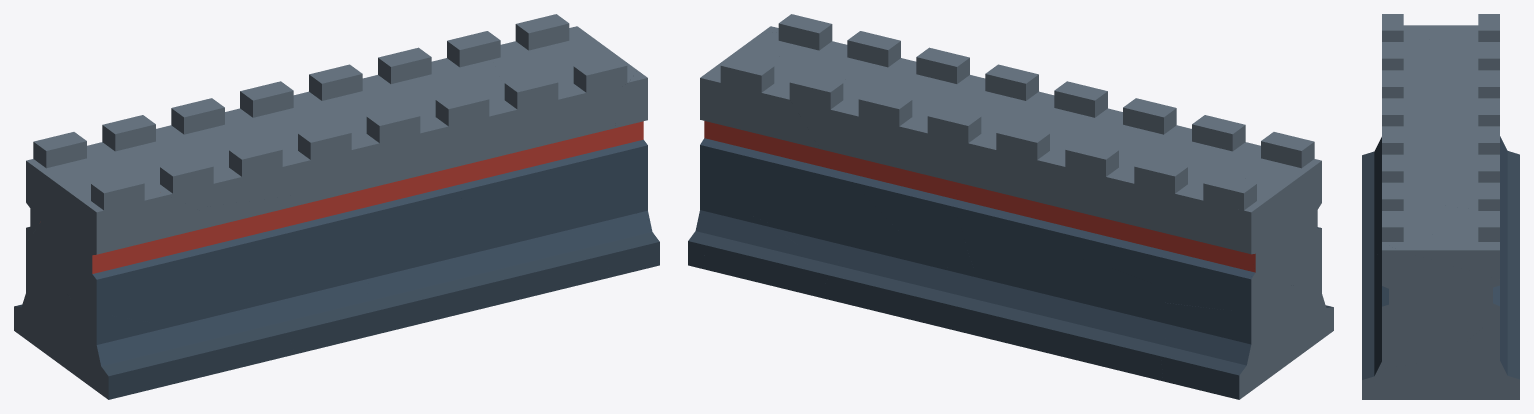
Rendered from wall.fbx.
3 renders of one model, left to right at view 1: azimuth 30°, elevation 25°; view 2: azimuth 150°, elevation 25°; view 3: azimuth 270°, elevation 25°, orthographic. The views are drawn at different scales.
Parts seen in each view (by area): view 1: Cube.027_cell.043_cell, Cube.027_cell.024, Cube.027_cell.050, Cube.027_cell.043_cell.001, wall, Cube.027_cell.039, Cube.027_cell.037, Cube.027_cell.033_cell.002, Cube.027_cell.041, Cube.027_cell.047, Cube.027_cell.051, Cube.027_cell.042_cell (+13 smaller); view 2: Cube.027_cell.024, Cube.027_cell.043_cell, Cube.027_cell.043_cell.001, Cube.027_cell.041, Cube.027_cell.033_cell.002, Cube.027_cell.042_cell, Cube.027_cell.034, Cube.027_cell.033_cell.001, wall, Cube.027_cell.050, Cube.027_cell.044, Cube.027_cell.048 (+10 smaller); view 3: Cube.027_cell.032, Cube.027_cell.043_cell, Cube.027_cell.029, Cube.027_cell.027, Cube.027_cell.038, Cube.027_cell.024, Cube.027_cell.050, Cube.027_cell.041, Cube.027_cell.046, Cube.027_cell.051, Cube.027_cell.049, Cube.027_cell.043_cell.001 (+12 smaller).
Boxes of the visible parts, left/top/right/bottom form: Cube.027_cell.043_cell: left=240, top=64, right=420, bottom=280; Cube.027_cell.024: left=79, top=98, right=332, bottom=277; Cube.027_cell.050: left=457, top=41, right=627, bottom=209; Cube.027_cell.043_cell.001: left=357, top=75, right=489, bottom=281; wall: left=366, top=232, right=548, bottom=336; Cube.027_cell.039: left=91, top=174, right=252, bottom=309; Cube.027_cell.037: left=54, top=289, right=181, bottom=399; Cube.027_cell.033_cell.002: left=239, top=248, right=372, bottom=353; Cube.027_cell.041: left=378, top=31, right=514, bottom=197; Cube.027_cell.047: left=504, top=158, right=629, bottom=271; Cube.027_cell.051: left=139, top=138, right=304, bottom=207; Cube.027_cell.042_cell: left=445, top=141, right=575, bottom=241; Cube.027_cell.024: left=1015, top=140, right=1242, bottom=282; Cube.027_cell.043_cell: left=927, top=64, right=1072, bottom=270; Cube.027_cell.043_cell.001: left=884, top=47, right=993, bottom=279; Cube.027_cell.041: left=789, top=58, right=932, bottom=233; Cube.027_cell.033_cell.002: left=955, top=232, right=1083, bottom=354; Cube.027_cell.042_cell: left=769, top=123, right=906, bottom=252; Cube.027_cell.034: left=1161, top=299, right=1280, bottom=399; Cube.027_cell.033_cell.001: left=1055, top=257, right=1166, bottom=381; wall: left=820, top=242, right=963, bottom=331; Cube.027_cell.050: left=748, top=14, right=902, bottom=144; Cube.027_cell.044: left=1203, top=159, right=1321, bottom=264; Cube.027_cell.048: left=700, top=99, right=777, bottom=222; Cube.027_cell.032: left=1382, top=243, right=1499, bottom=318; Cube.027_cell.043_cell: left=1382, top=98, right=1499, bottom=154; Cube.027_cell.029: left=1447, top=326, right=1519, bottom=399; Cube.027_cell.027: left=1378, top=316, right=1483, bottom=368; Cube.027_cell.038: left=1382, top=211, right=1499, bottom=279; Cube.027_cell.024: left=1420, top=41, right=1499, bottom=98; Cube.027_cell.050: left=1382, top=182, right=1478, bottom=241; Cube.027_cell.041: left=1403, top=154, right=1499, bottom=210; Cube.027_cell.046: left=1362, top=352, right=1450, bottom=399; Cube.027_cell.051: left=1382, top=42, right=1452, bottom=99; Cube.027_cell.049: left=1382, top=97, right=1478, bottom=126; Cube.027_cell.043_cell.001: left=1381, top=154, right=1501, bottom=256.
Bounding box in the file's own units: 10.32 × 3.51 × 3.06.
